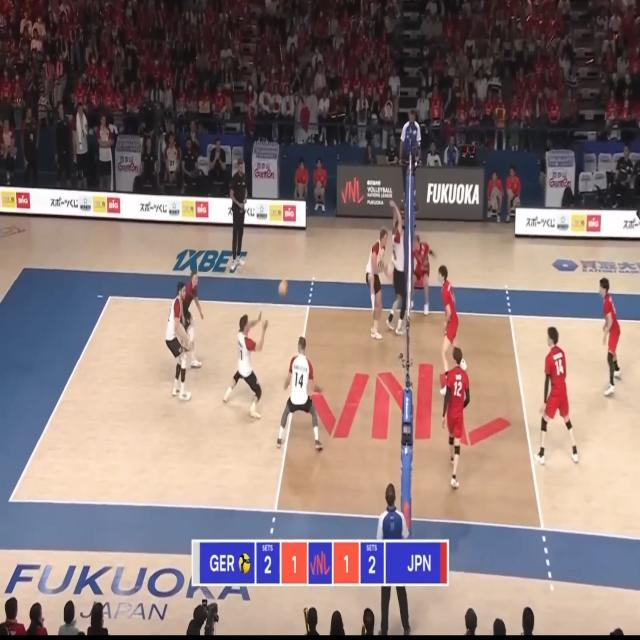ball: (279, 281, 286, 294)
